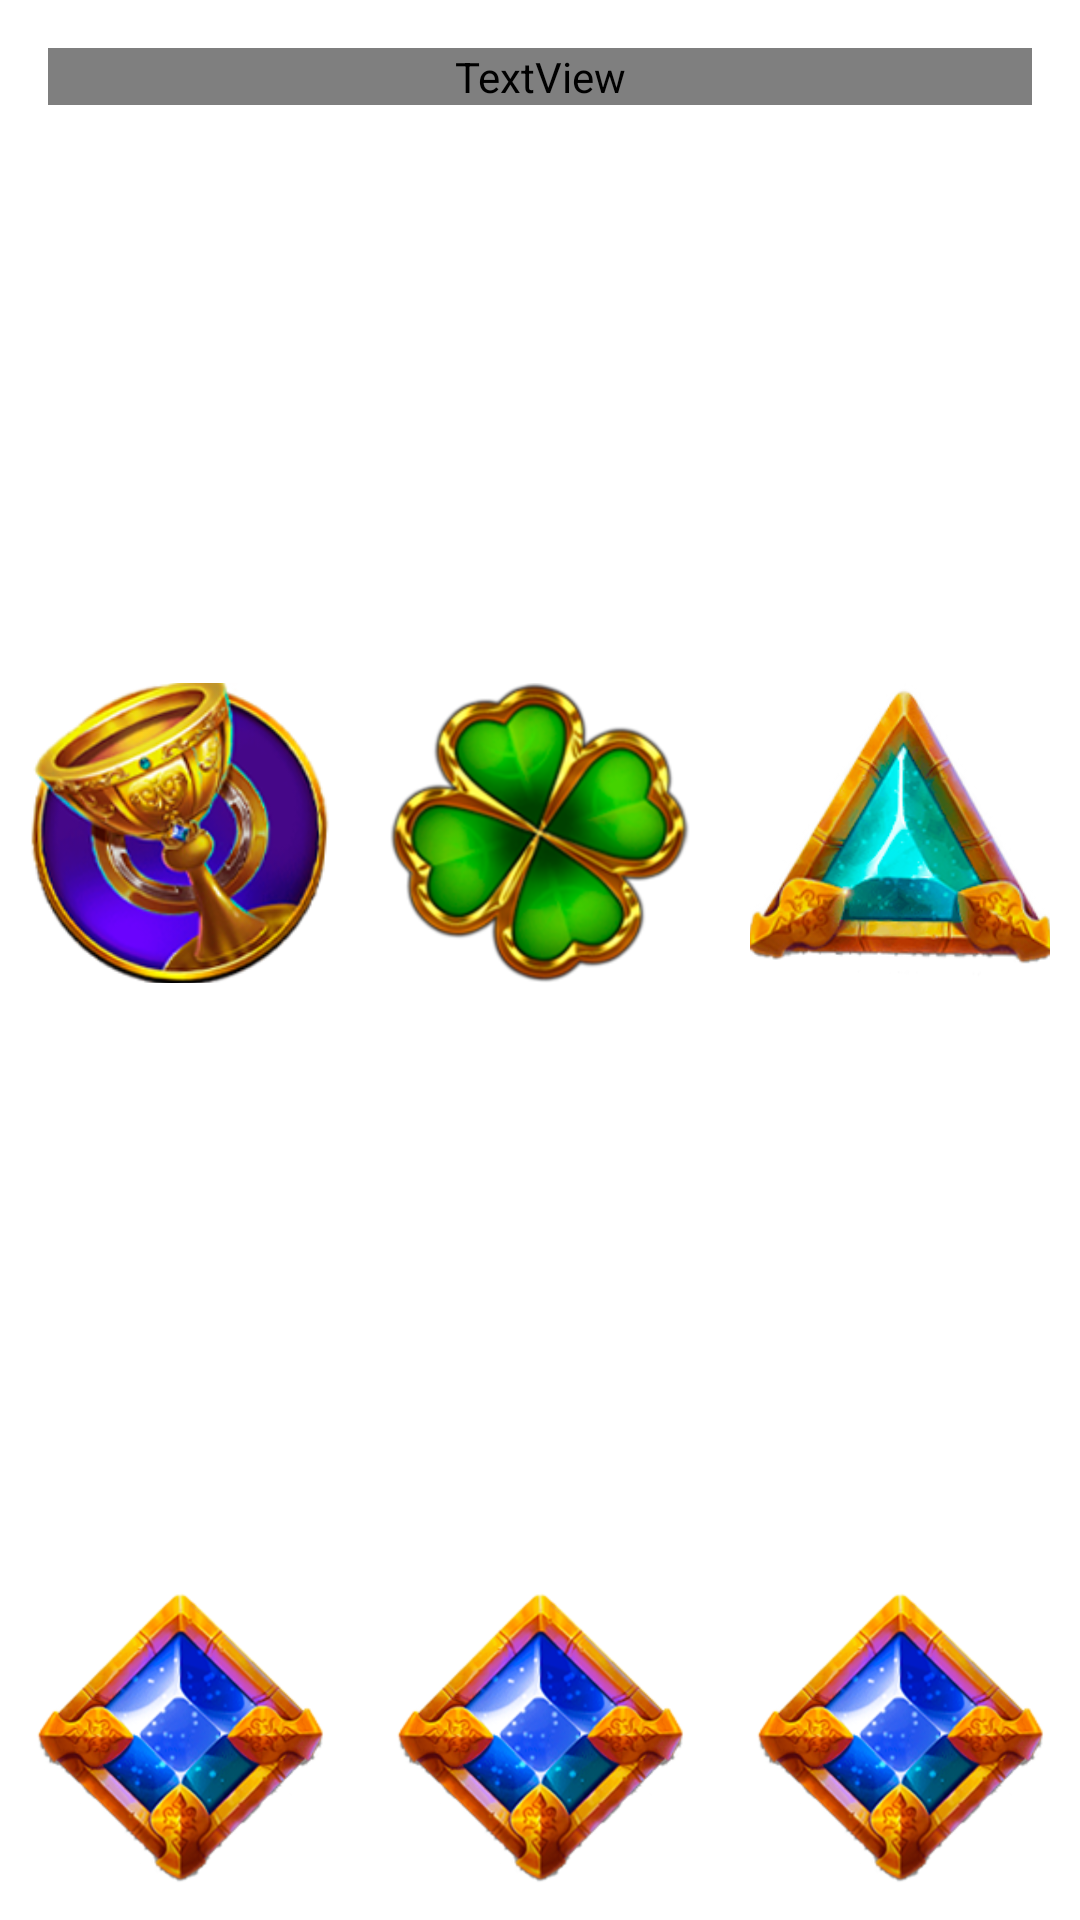

Icons on this 1080*1920 Android screen, each with its box as (x1, y1, x2, y2):
clo: (391, 683, 689, 982)
